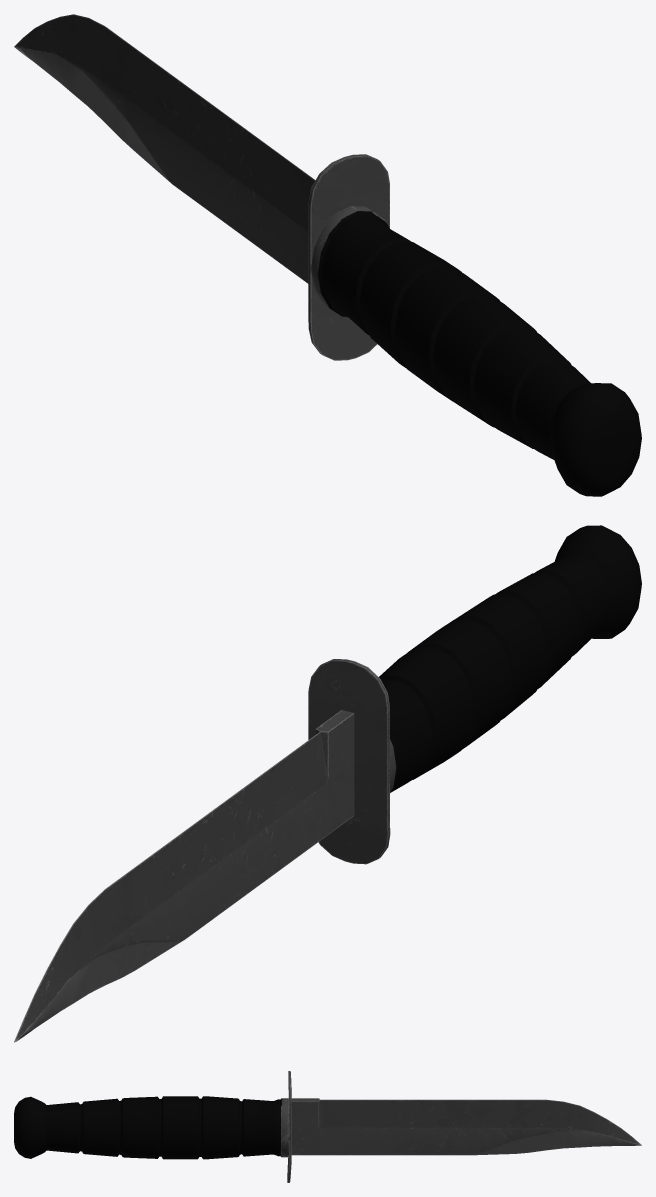
Rendered from knife_combat.glb.
The picture shows the model from 3 angles, top to bottom: view 1: azimuth 30°, elevation 25°; view 2: azimuth 150°, elevation 25°; view 3: azimuth 270°, elevation 25°; orthographic projection. The views are drawn at different scales.
Visible parts, largest first — view 1: Combat_Knife; view 2: Combat_Knife; view 3: Combat_Knife.
Part boxes in pixels (box(x1,y1,x2,y2)): Combat_Knife: box(14, 14, 641, 496); Combat_Knife: box(14, 525, 641, 1042); Combat_Knife: box(14, 1071, 641, 1182).
Size of the model in its own units: 0.024 by 0.0552 by 0.2972.
Materials: 1 (1 with a texture image).
